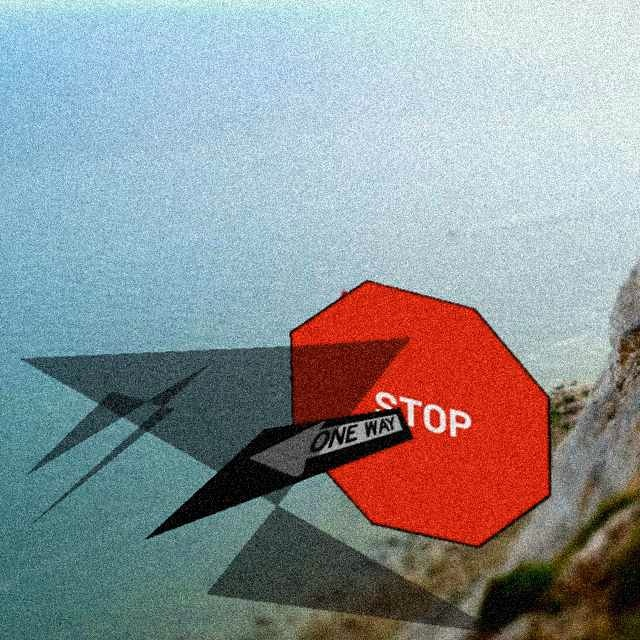ONE_WAY_ left: (145, 407, 414, 539)
STOP: (290, 279, 552, 548)
